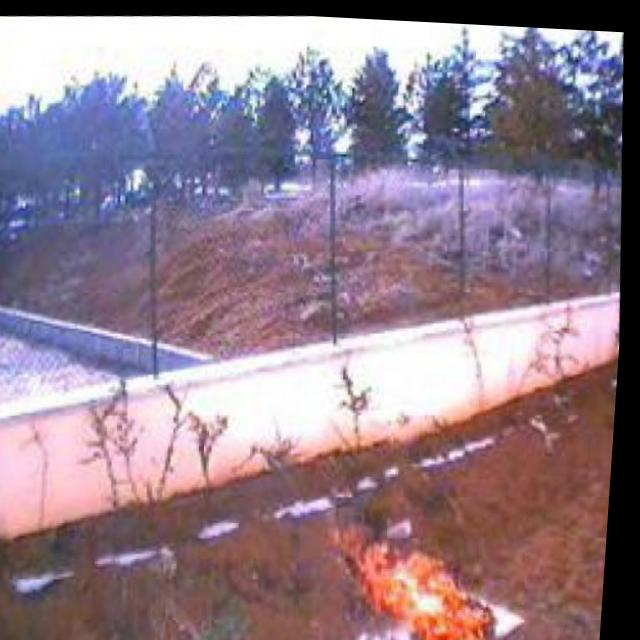Fire: (324, 497, 513, 640)
